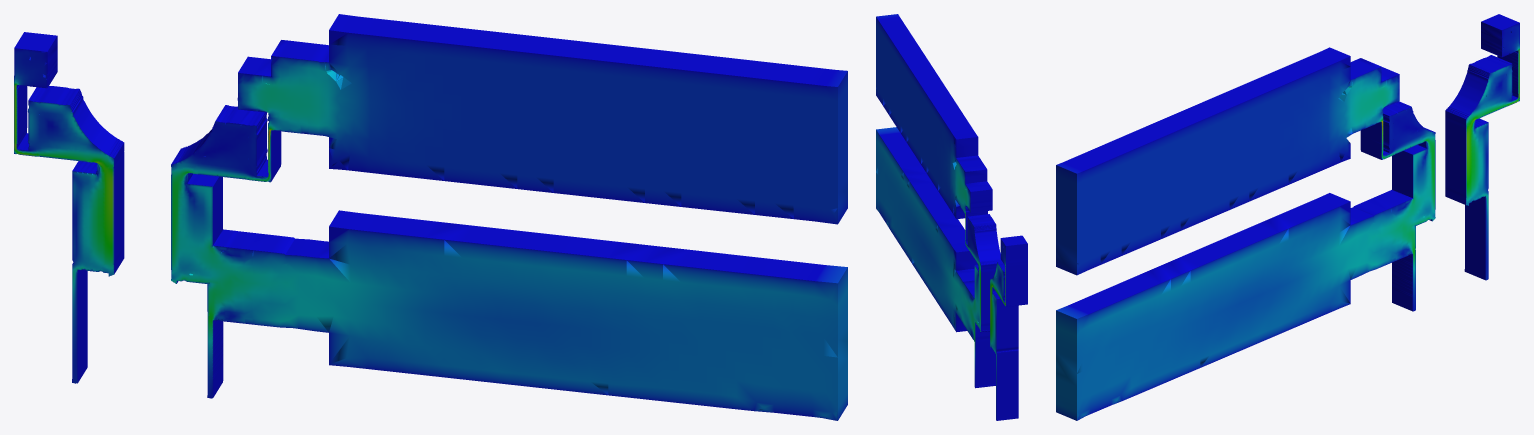
File: slice.FBX
3 views of the same model, side by side, from view 1: azimuth 30°, elevation 25°; view 2: azimuth 150°, elevation 25°; view 3: azimuth 270°, elevation 25° (orthographic). The views are drawn at different scales.
Visible parts, largest first — view 1: VIFS001; view 2: VIFS001; view 3: VIFS001.
Part boxes in pixels (x1,y1,x2,y2): VIFS001: (14, 14, 847, 420); VIFS001: (876, 14, 1027, 420); VIFS001: (1056, 14, 1519, 420).
Size of the model in its own units: 0.9866 by 0.6552 by 0.9754.
